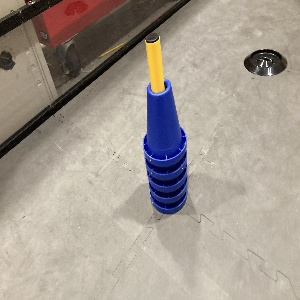Blue_5: (137, 80, 191, 214)
